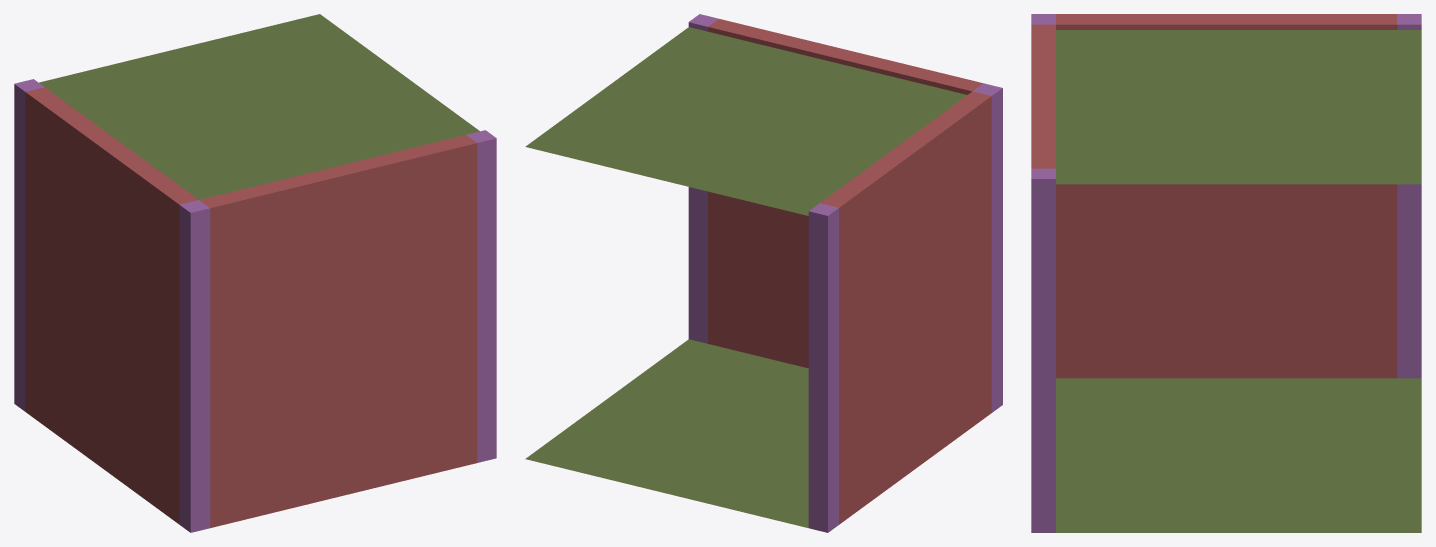
The model's file is building_corner.fbx.
3 renders of one model, left to right at view 1: azimuth 30°, elevation 25°; view 2: azimuth 150°, elevation 25°; view 3: azimuth 270°, elevation 25°, orthographic. The views are drawn at different scales.
Visible parts, largest first — view 1: bulding_wall2, bulding_wall1, polySurface8, building_pillar10, building_pillar11, building_pillar9; view 2: bulding_wall1, polySurface8, polySurface7, bulding_wall2, building_pillar9, building_pillar10, building_pillar11; view 3: bulding_wall1, polySurface7, polySurface8, building_pillar11, building_pillar9, bulding_wall2.
Part boxes in pixels (x1,y1,x2,y2): bulding_wall2: [199, 135, 477, 527]; bulding_wall1: [25, 87, 198, 524]; polySurface8: [39, 14, 479, 199]; building_pillar10: [179, 200, 210, 532]; building_pillar11: [466, 130, 496, 462]; building_pillar9: [14, 79, 44, 411]; bulding_wall1: [820, 91, 991, 524]; polySurface8: [525, 27, 966, 215]; polySurface7: [525, 339, 808, 527]; bulding_wall2: [708, 19, 982, 368]; building_pillar9: [808, 203, 838, 532]; building_pillar10: [973, 83, 1002, 412]; building_pillar11: [688, 14, 718, 343]; bulding_wall1: [1056, 14, 1397, 378]; polySurface7: [1056, 378, 1421, 532]; polySurface8: [1056, 30, 1421, 184]; building_pillar11: [1031, 168, 1055, 532]; building_pillar9: [1397, 14, 1421, 378]; bulding_wall2: [1031, 24, 1055, 168].
Bounding box in the file's own units: 1 × 1 × 1.
